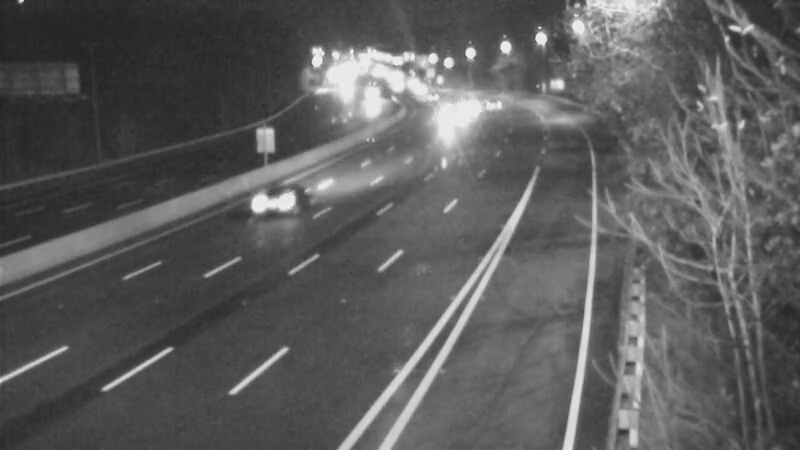vehicle: (235, 160, 315, 240), (399, 66, 449, 116), (408, 71, 458, 121), (439, 77, 489, 127), (466, 78, 516, 128), (426, 95, 476, 145), (344, 71, 394, 121)
